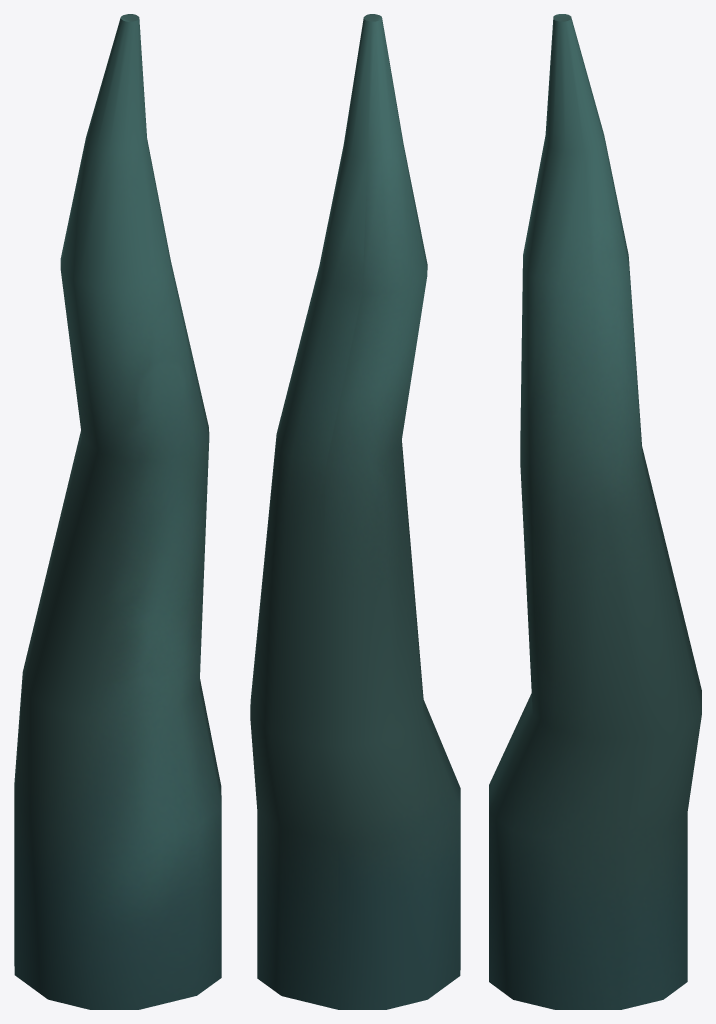
Rendered from stalagmite_03.fbx.
3 views of the same model, side by side, from view 1: azimuth 30°, elevation 25°; view 2: azimuth 150°, elevation 25°; view 3: azimuth 270°, elevation 25° (orthographic).
Parts seen in each view (by area): view 1: polySurface216; view 2: polySurface216; view 3: polySurface216.
Part boxes in pixels (x1,y1,x2,y2): polySurface216: [14, 14, 221, 1009]; polySurface216: [250, 14, 460, 1009]; polySurface216: [489, 14, 701, 1009].
Bounding box in the file's own units: 0.9302 × 0.9978 × 4.91.
